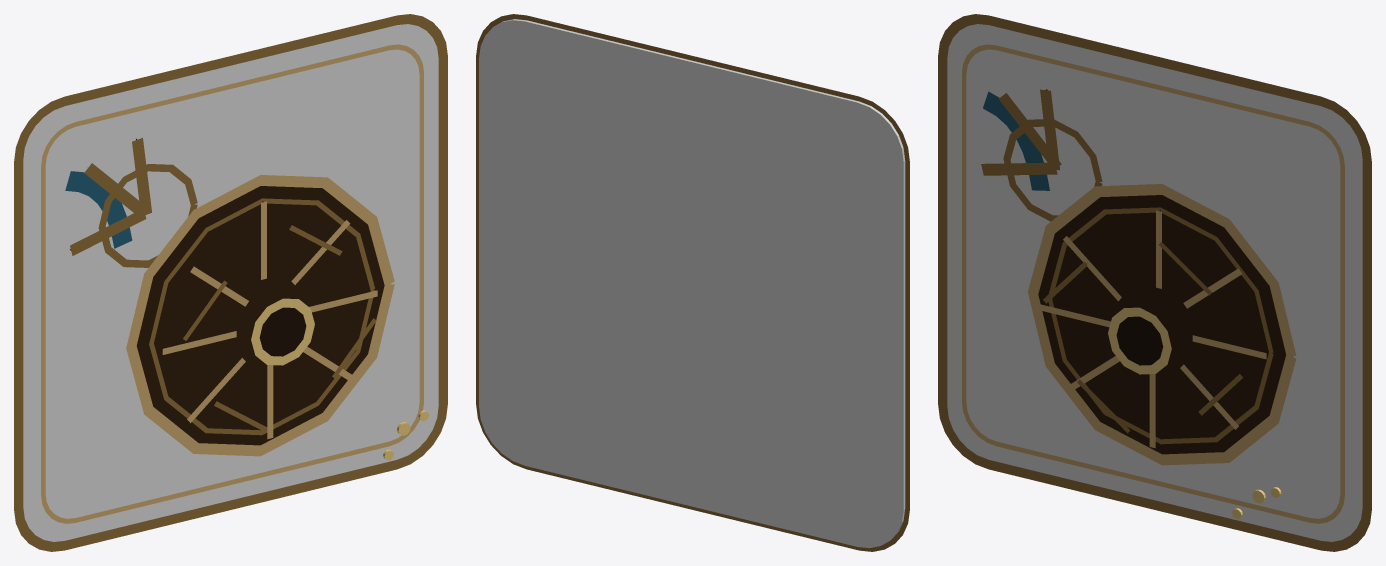
Rendered from obj-zhernov.glb.
The picture shows the model from 3 angles, left to right: view 1: azimuth 30°, elevation 25°; view 2: azimuth 150°, elevation 25°; view 3: azimuth 330°, elevation 25°; orthographic projection.
Parts seen in each view (by area): view 1: obj-zhernov; view 2: obj-zhernov; view 3: obj-zhernov.
Boxes of the visible parts, x1=… form: obj-zhernov: x1=14, y1=14, x2=447, y2=551; obj-zhernov: x1=476, y1=14, x2=909, y2=551; obj-zhernov: x1=938, y1=14, x2=1371, y2=551.
Bounding box in the file's own units: 0.3917 × 0.3917 × 0.0625.
